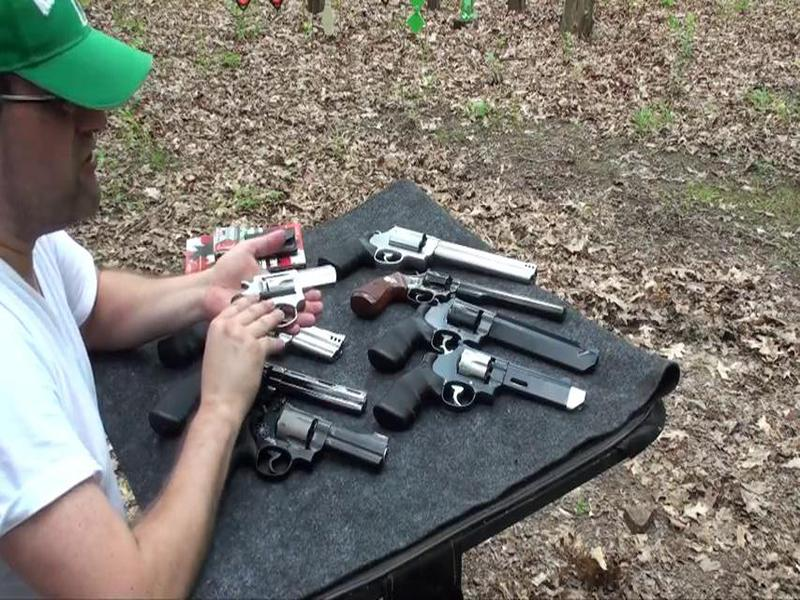Revolver: (199, 257, 353, 336)
